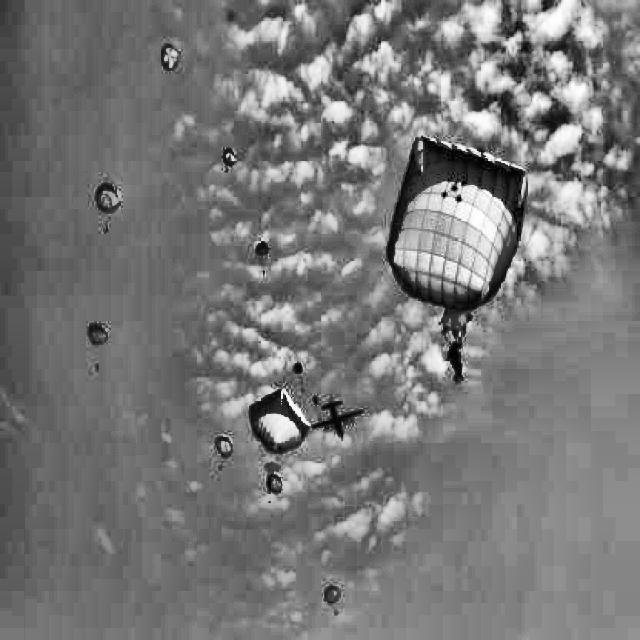C130: (311, 392, 364, 439)
